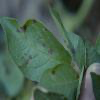Potato leaf early blight: (0, 17, 73, 85)
